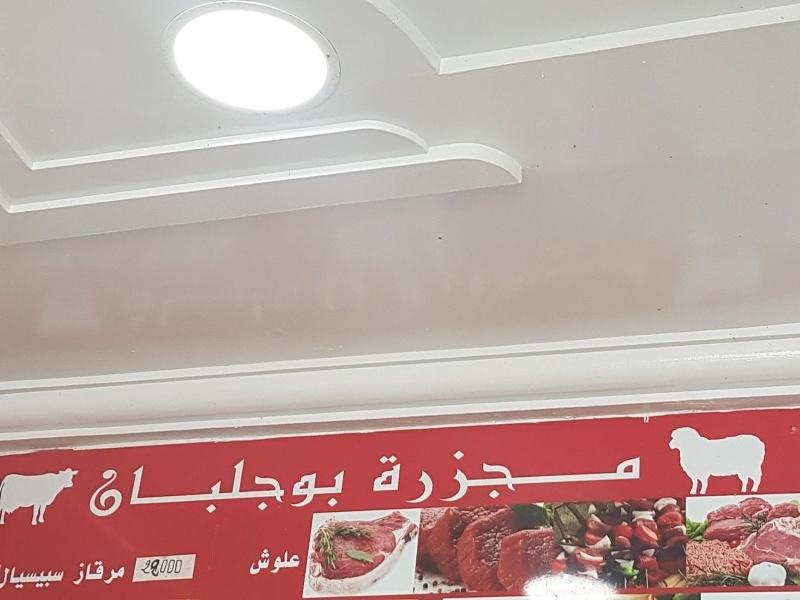text: (97, 458, 112, 520), (113, 458, 128, 520), (129, 458, 144, 520), (145, 458, 160, 520), (161, 458, 176, 520), (177, 458, 192, 520), (193, 458, 208, 520), (209, 458, 224, 520), (225, 458, 240, 520), (241, 458, 256, 520), (257, 458, 272, 520), (273, 458, 288, 520), (289, 458, 304, 520), (305, 458, 320, 520), (321, 458, 336, 520), (385, 449, 400, 506), (401, 449, 416, 506), (417, 449, 432, 506), (433, 449, 448, 506), (449, 449, 464, 506), (465, 449, 480, 506), (481, 449, 496, 506), (497, 449, 512, 506), (513, 449, 528, 506), (529, 449, 544, 506), (545, 449, 560, 506), (561, 449, 576, 506), (577, 449, 592, 506), (593, 449, 608, 506), (609, 449, 624, 506), (625, 449, 640, 506), (372, 449, 384, 506), (337, 458, 346, 520), (257, 548, 272, 575), (273, 548, 288, 575), (81, 559, 96, 585), (97, 559, 112, 585), (17, 566, 32, 591), (33, 566, 48, 591), (49, 566, 64, 591), (2, 566, 16, 591), (113, 559, 126, 585), (289, 548, 301, 575), (145, 558, 160, 579), (161, 558, 176, 579), (92, 458, 96, 520), (71, 559, 80, 585), (248, 548, 256, 575), (177, 558, 186, 579), (140, 558, 144, 579), (65, 566, 66, 591)
